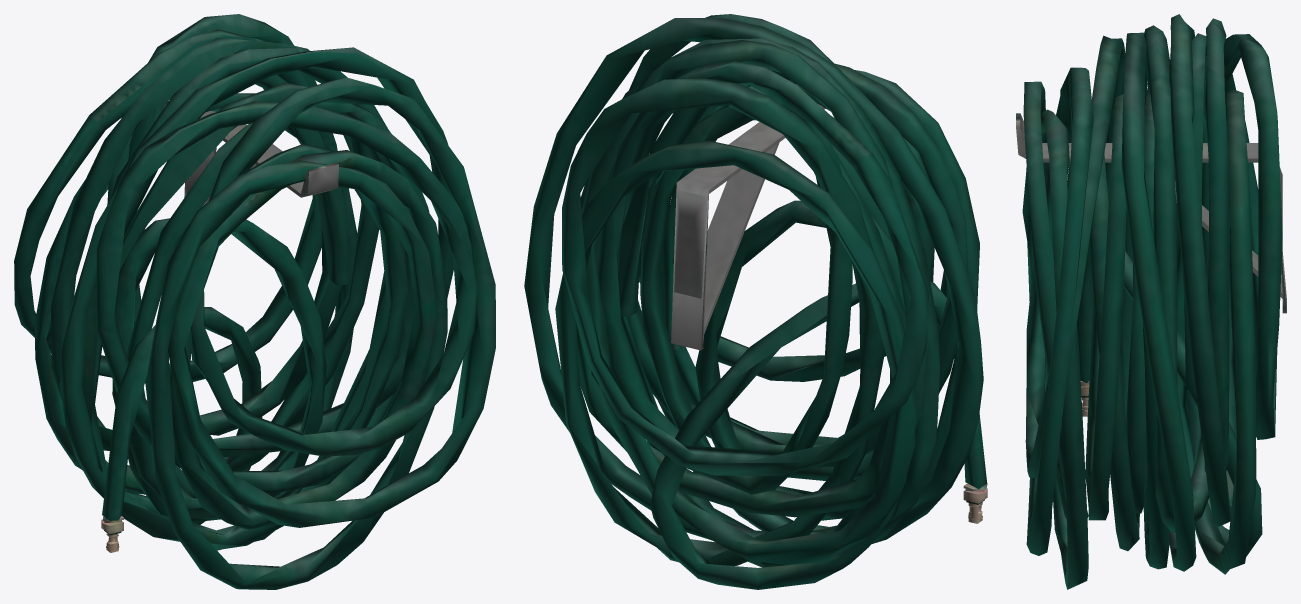
File: garden_hose_wall_mounted_01.glb
3 renders of one model, left to right at view 1: azimuth 30°, elevation 25°; view 2: azimuth 150°, elevation 25°; view 3: azimuth 270°, elevation 25°, orthographic. The views are drawn at different scales.
Visible parts, largest first — view 1: garden_hose, garden_hose_wall_bracket; view 2: garden_hose, garden_hose_wall_bracket; view 3: garden_hose, garden_hose_wall_bracket.
Part boxes in pixels (x1,y1,x2,y2): garden_hose: (14,14,495,589); garden_hose_wall_bracket: (184,111,338,206); garden_hose: (524,14,987,589); garden_hose_wall_bracket: (671,104,825,350); garden_hose: (1022,14,1282,589); garden_hose_wall_bracket: (1016,113,1286,313).
Bounding box in the file's own units: 0.4621 × 0.5511 × 0.2503.
Materials: 1 (1 with a texture image).
